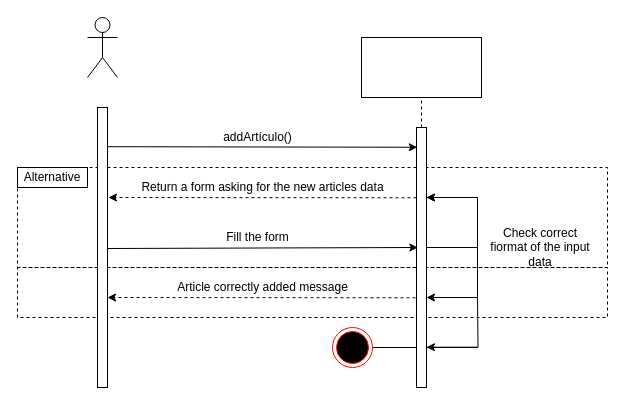
This 625x405 diagram has some shape labels left out. Each missing label, with the centre of its shape:
"Admin" belongs at (x=102, y=47).
"MUSIC STORE MANAGER" belongs at (x=421, y=67).
